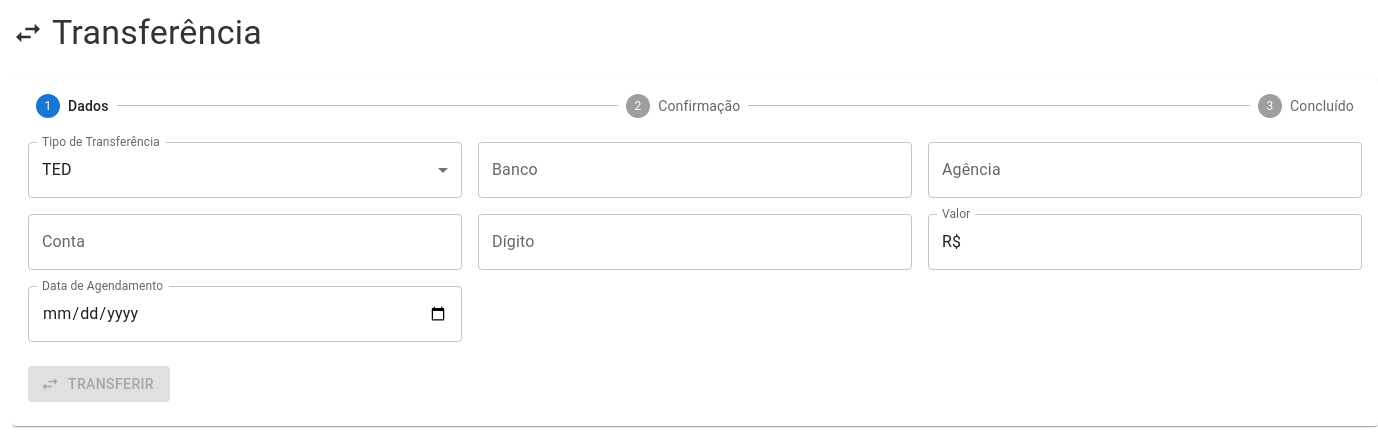
Test: renderiza seletor de tipo de transferencia com TED DOC PIX
The width and height of the screenshot is (1378, 445).
Press the mouse on the dropdown named "Tipo de Transferência" at (57, 170), box [42, 160, 72, 180]
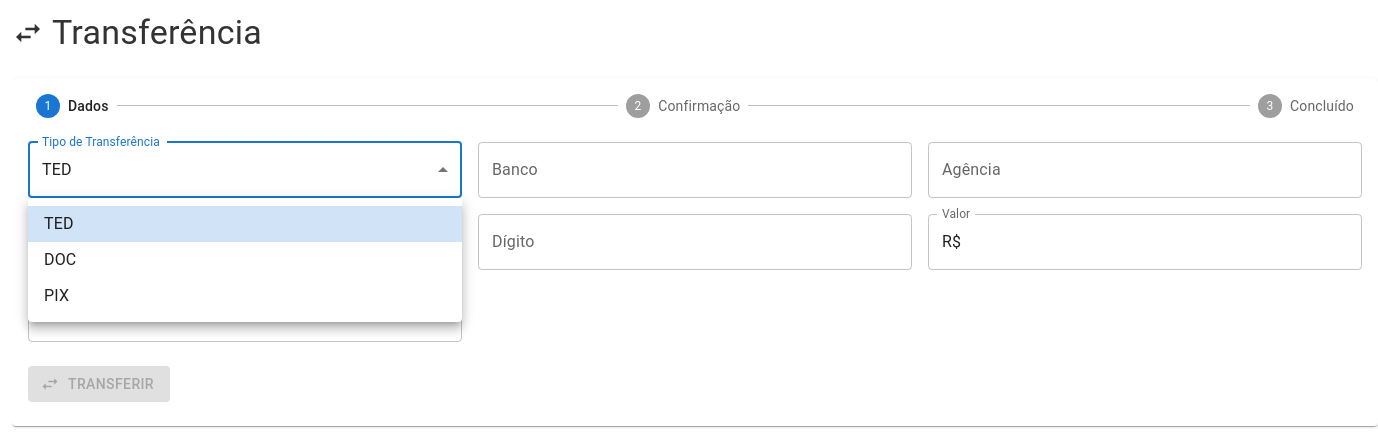
Expected: the option "TED" is shown, [28, 206, 462, 242]
Expected: the option "DOC" is shown, [44, 250, 76, 269]
Expected: the option "PIX" is shown, [44, 286, 69, 305]
